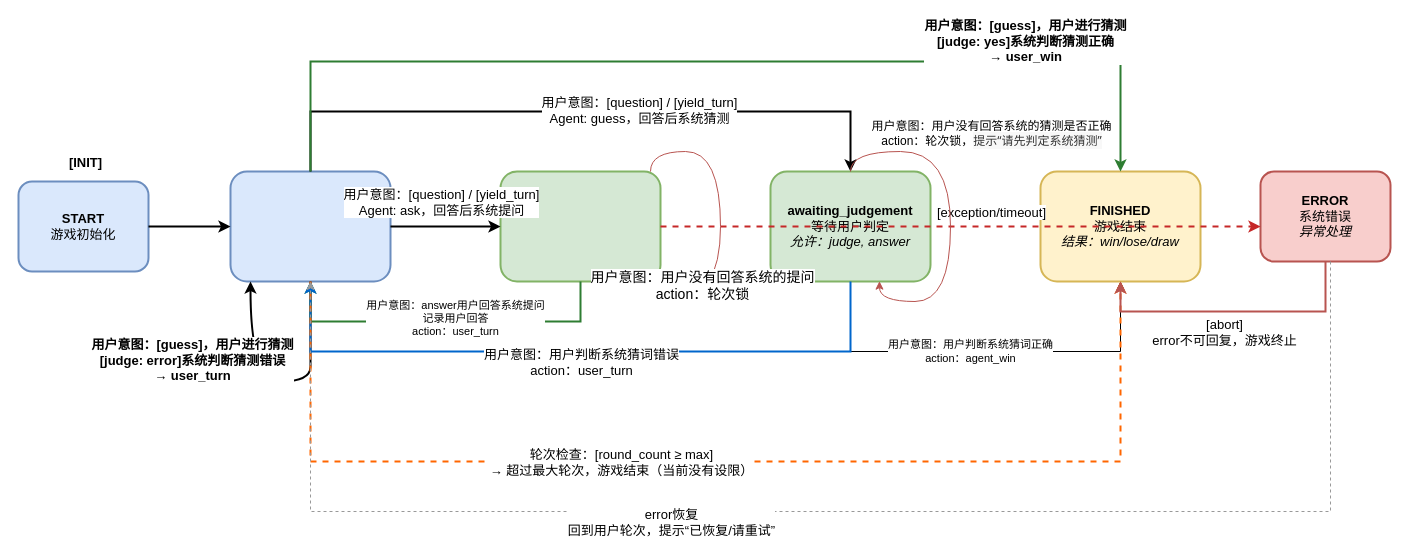
The diagram is 1408 pixels wide and 554 high, and some of its shapes have lost their labels. Each missing label, with the centre of its shape:
"awaiting_answer 等待用户回答 允许：answer" belongs at (x=580, y=226).
"user_turn 用户行动轮 允许：question, guess,yield_turn" belongs at (x=310, y=226).
